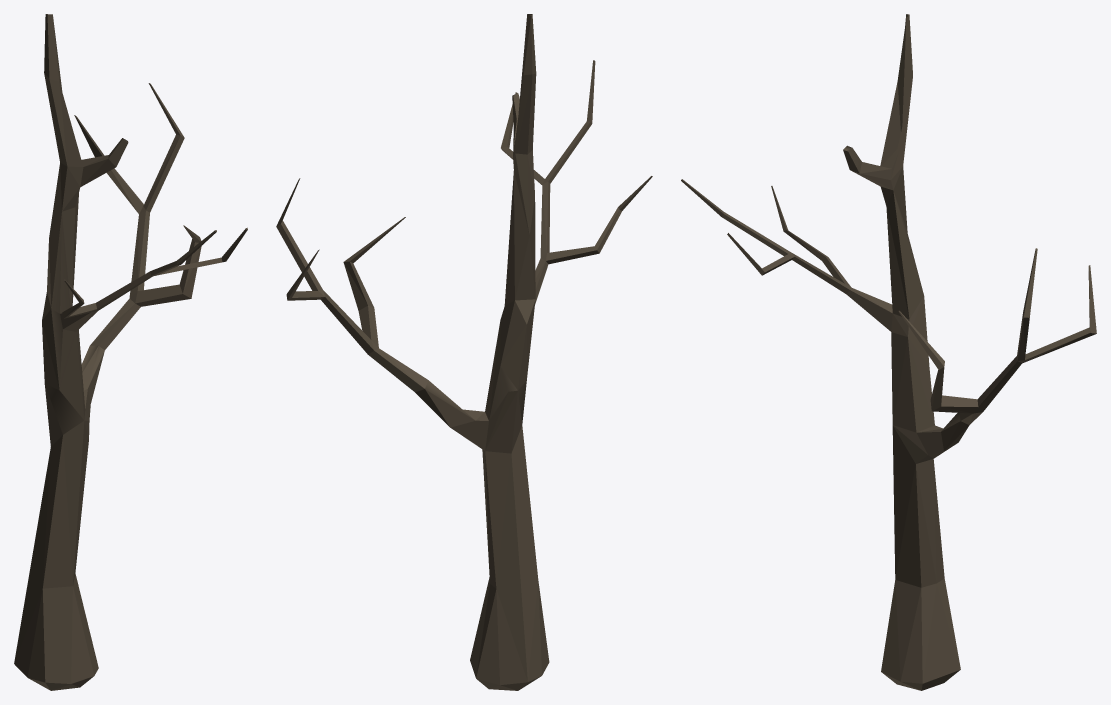
Rendered from SM_Generic_TreeDead_01.glb.
3 views of the same model, side by side, from view 1: azimuth 30°, elevation 25°; view 2: azimuth 150°, elevation 25°; view 3: azimuth 270°, elevation 25° (orthographic). The views are drawn at different scales.
Parts seen in each view (by area): view 1: SM_Generic_TreeDead_01; view 2: SM_Generic_TreeDead_01; view 3: SM_Generic_TreeDead_01.
Boxes of the visible parts, x1,y1,x2,y2 form: SM_Generic_TreeDead_01: (14, 14, 247, 690); SM_Generic_TreeDead_01: (276, 14, 652, 690); SM_Generic_TreeDead_01: (681, 14, 1096, 690).
Size of the model in its own units: 2.03 by 5.24 by 3.
1 material, 1 textured.
